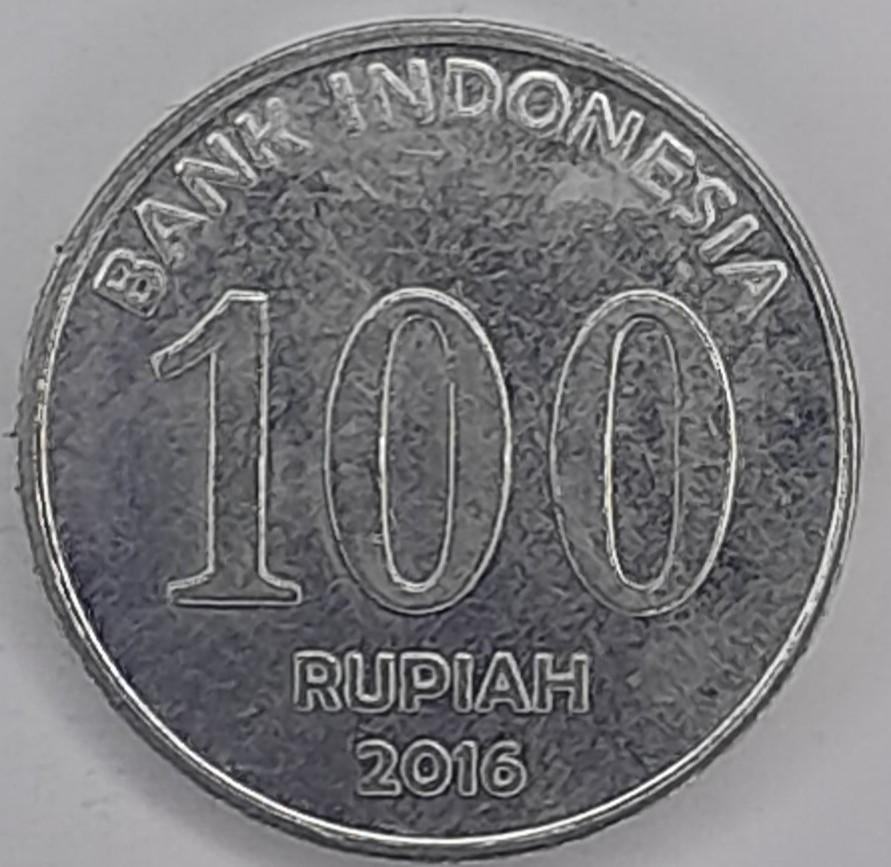coin_100_e2016: (4, 10, 867, 864)
